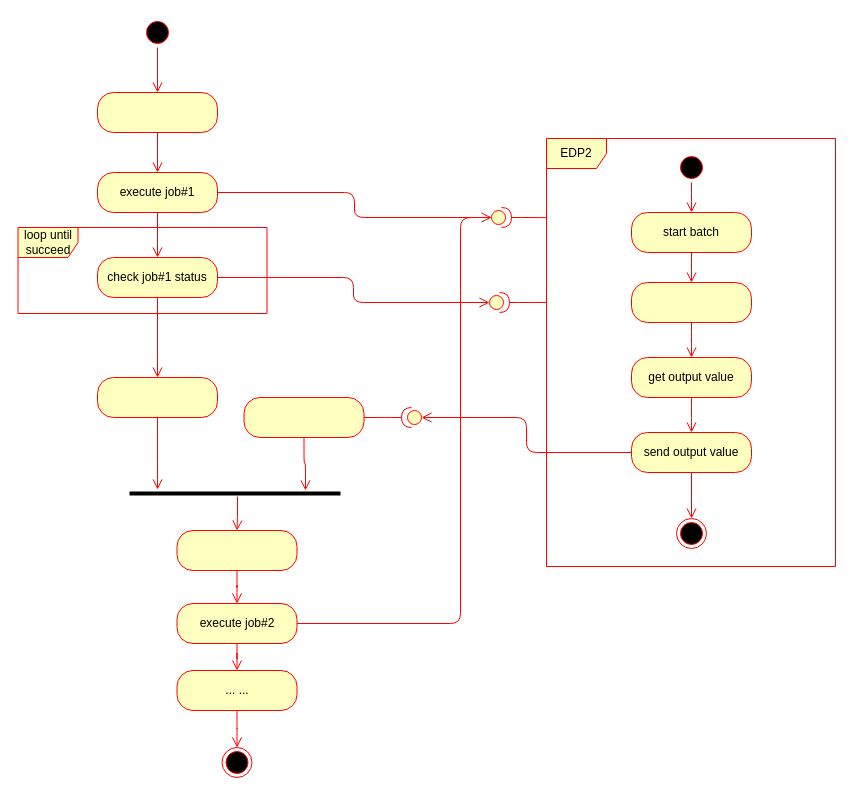
Some shapes in this 853 by 795 pixel diagram are drawn without their labels. Here are the shapes that lost their labels. From the top down, the centre of each, then its label:
At pixel 157 112: "Find available job#1".
At pixel 691 302: "run business logic".
At pixel 157 397: "Find available job#2".
At pixel 303 417: "store output value".
At pixel 236 550: "merge parameter".
